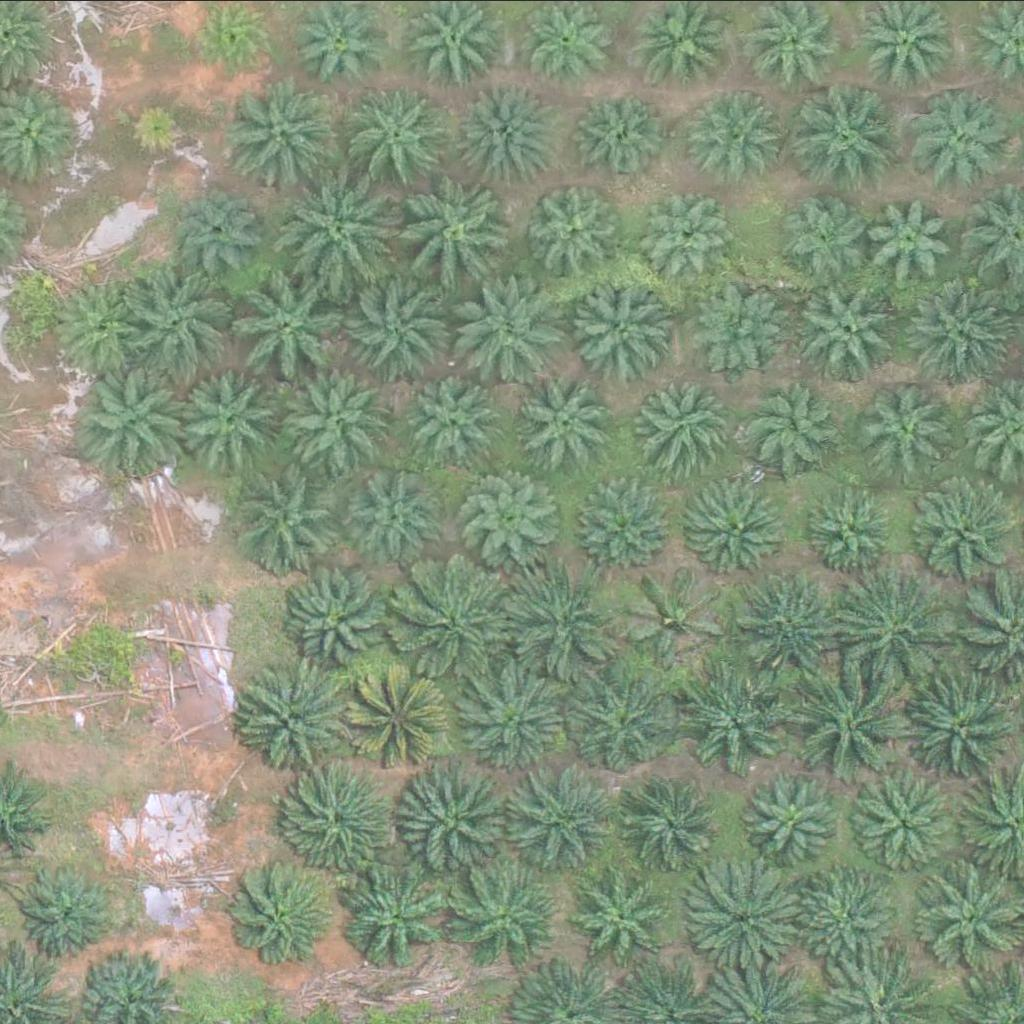Kelapa_Sawit: (902, 669, 1016, 782), (686, 862, 800, 975), (342, 270, 455, 383), (727, 572, 840, 685), (507, 568, 620, 681), (395, 564, 508, 677), (796, 670, 909, 783), (402, 761, 515, 874), (344, 859, 457, 972), (289, 173, 402, 286), (238, 267, 351, 380), (81, 362, 194, 475), (283, 565, 396, 678), (459, 272, 573, 384), (841, 573, 955, 685), (449, 857, 563, 969), (221, 859, 335, 971), (398, 178, 511, 290), (675, 665, 788, 777), (225, 77, 338, 189), (121, 262, 234, 374), (271, 360, 384, 472), (234, 466, 347, 578), (240, 663, 353, 775), (284, 773, 397, 885), (347, 82, 448, 182), (680, 85, 781, 185), (799, 86, 900, 186), (908, 89, 1009, 189), (520, 177, 621, 277), (575, 277, 676, 377), (804, 273, 905, 373), (517, 372, 618, 472), (637, 380, 738, 480), (737, 375, 838, 475), (572, 474, 673, 574), (688, 477, 789, 577), (914, 478, 1015, 578), (461, 676, 562, 776), (573, 674, 674, 774), (518, 768, 619, 868), (858, 773, 959, 873), (573, 867, 674, 967), (51, 275, 152, 375), (185, 367, 286, 467), (462, 86, 562, 186), (687, 281, 787, 381), (467, 471, 567, 571), (623, 565, 723, 665), (355, 670, 455, 770), (632, 776, 732, 876), (805, 865, 905, 965), (24, 862, 124, 962), (752, 775, 841, 863), (573, 92, 661, 180), (813, 487, 901, 575), (171, 180, 259, 268), (641, 192, 729, 279), (782, 192, 870, 279), (870, 195, 958, 282), (412, 373, 500, 460), (865, 384, 953, 471), (357, 471, 445, 558), (129, 100, 192, 163)
